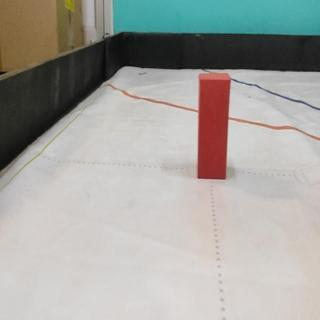redbox: (197, 73, 230, 180)
